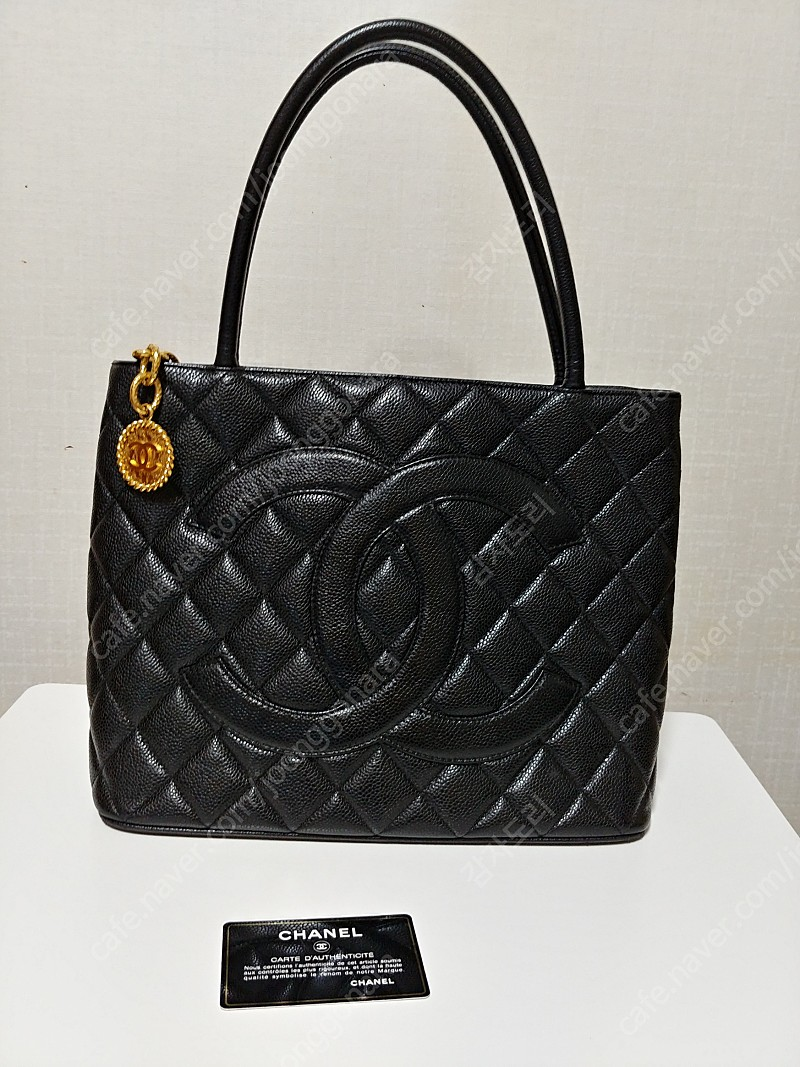channel: (50, 290, 795, 907), (173, 421, 580, 769)
